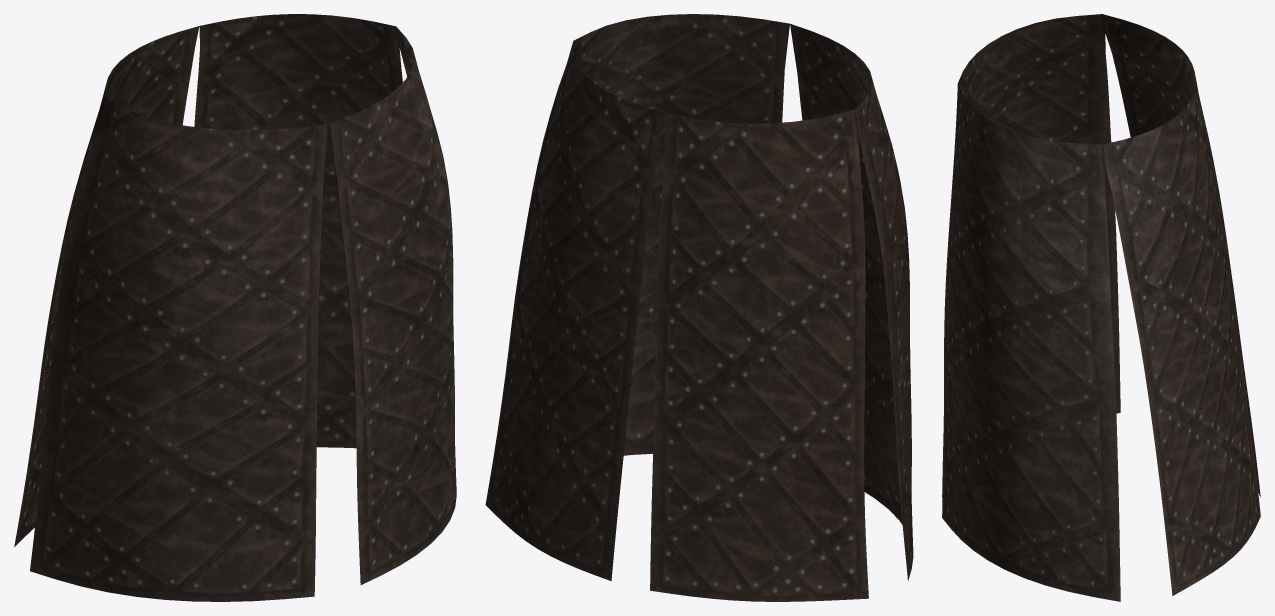
The model's file is clo_sk_northern_armor_medium_a.fbx.
3 views of the same model, side by side, from view 1: azimuth 30°, elevation 25°; view 2: azimuth 150°, elevation 25°; view 3: azimuth 270°, elevation 25° (orthographic). The views are drawn at different scales.
Visible parts, largest first — view 1: clo_sk_northern_armor_medium_a; view 2: clo_sk_northern_armor_medium_a; view 3: clo_sk_northern_armor_medium_a.
Boxes of the visible parts, box(x1,y1,x2,y2) form: clo_sk_northern_armor_medium_a: box(14, 14, 456, 601); clo_sk_northern_armor_medium_a: box(485, 14, 913, 601); clo_sk_northern_armor_medium_a: box(942, 14, 1260, 601).
Size of the model in its own units: 0.5723 by 0.4076 by 0.6041.
1 material, 1 textured.
